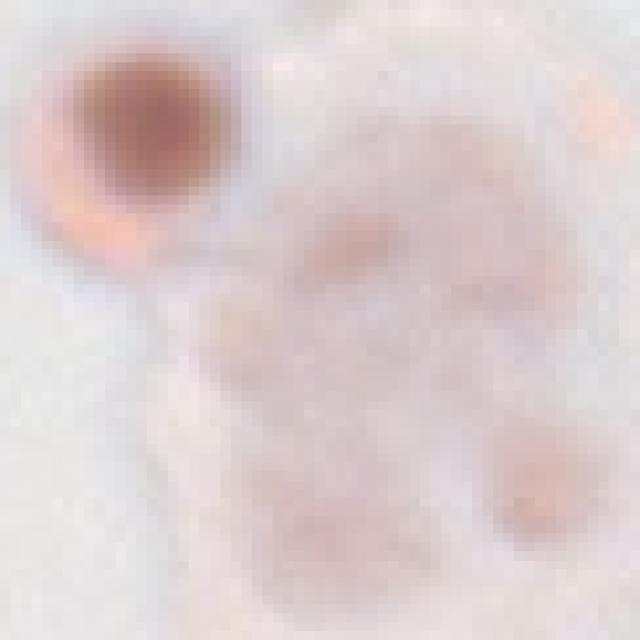nucleus: (47, 21, 265, 239)
